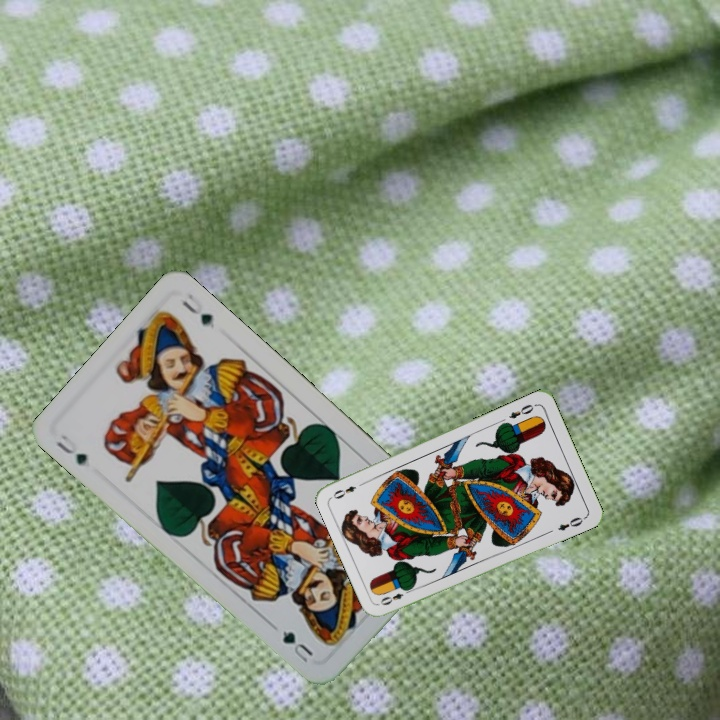EO: (376, 584, 415, 608), (505, 400, 539, 421)
GU: (52, 430, 90, 469)
